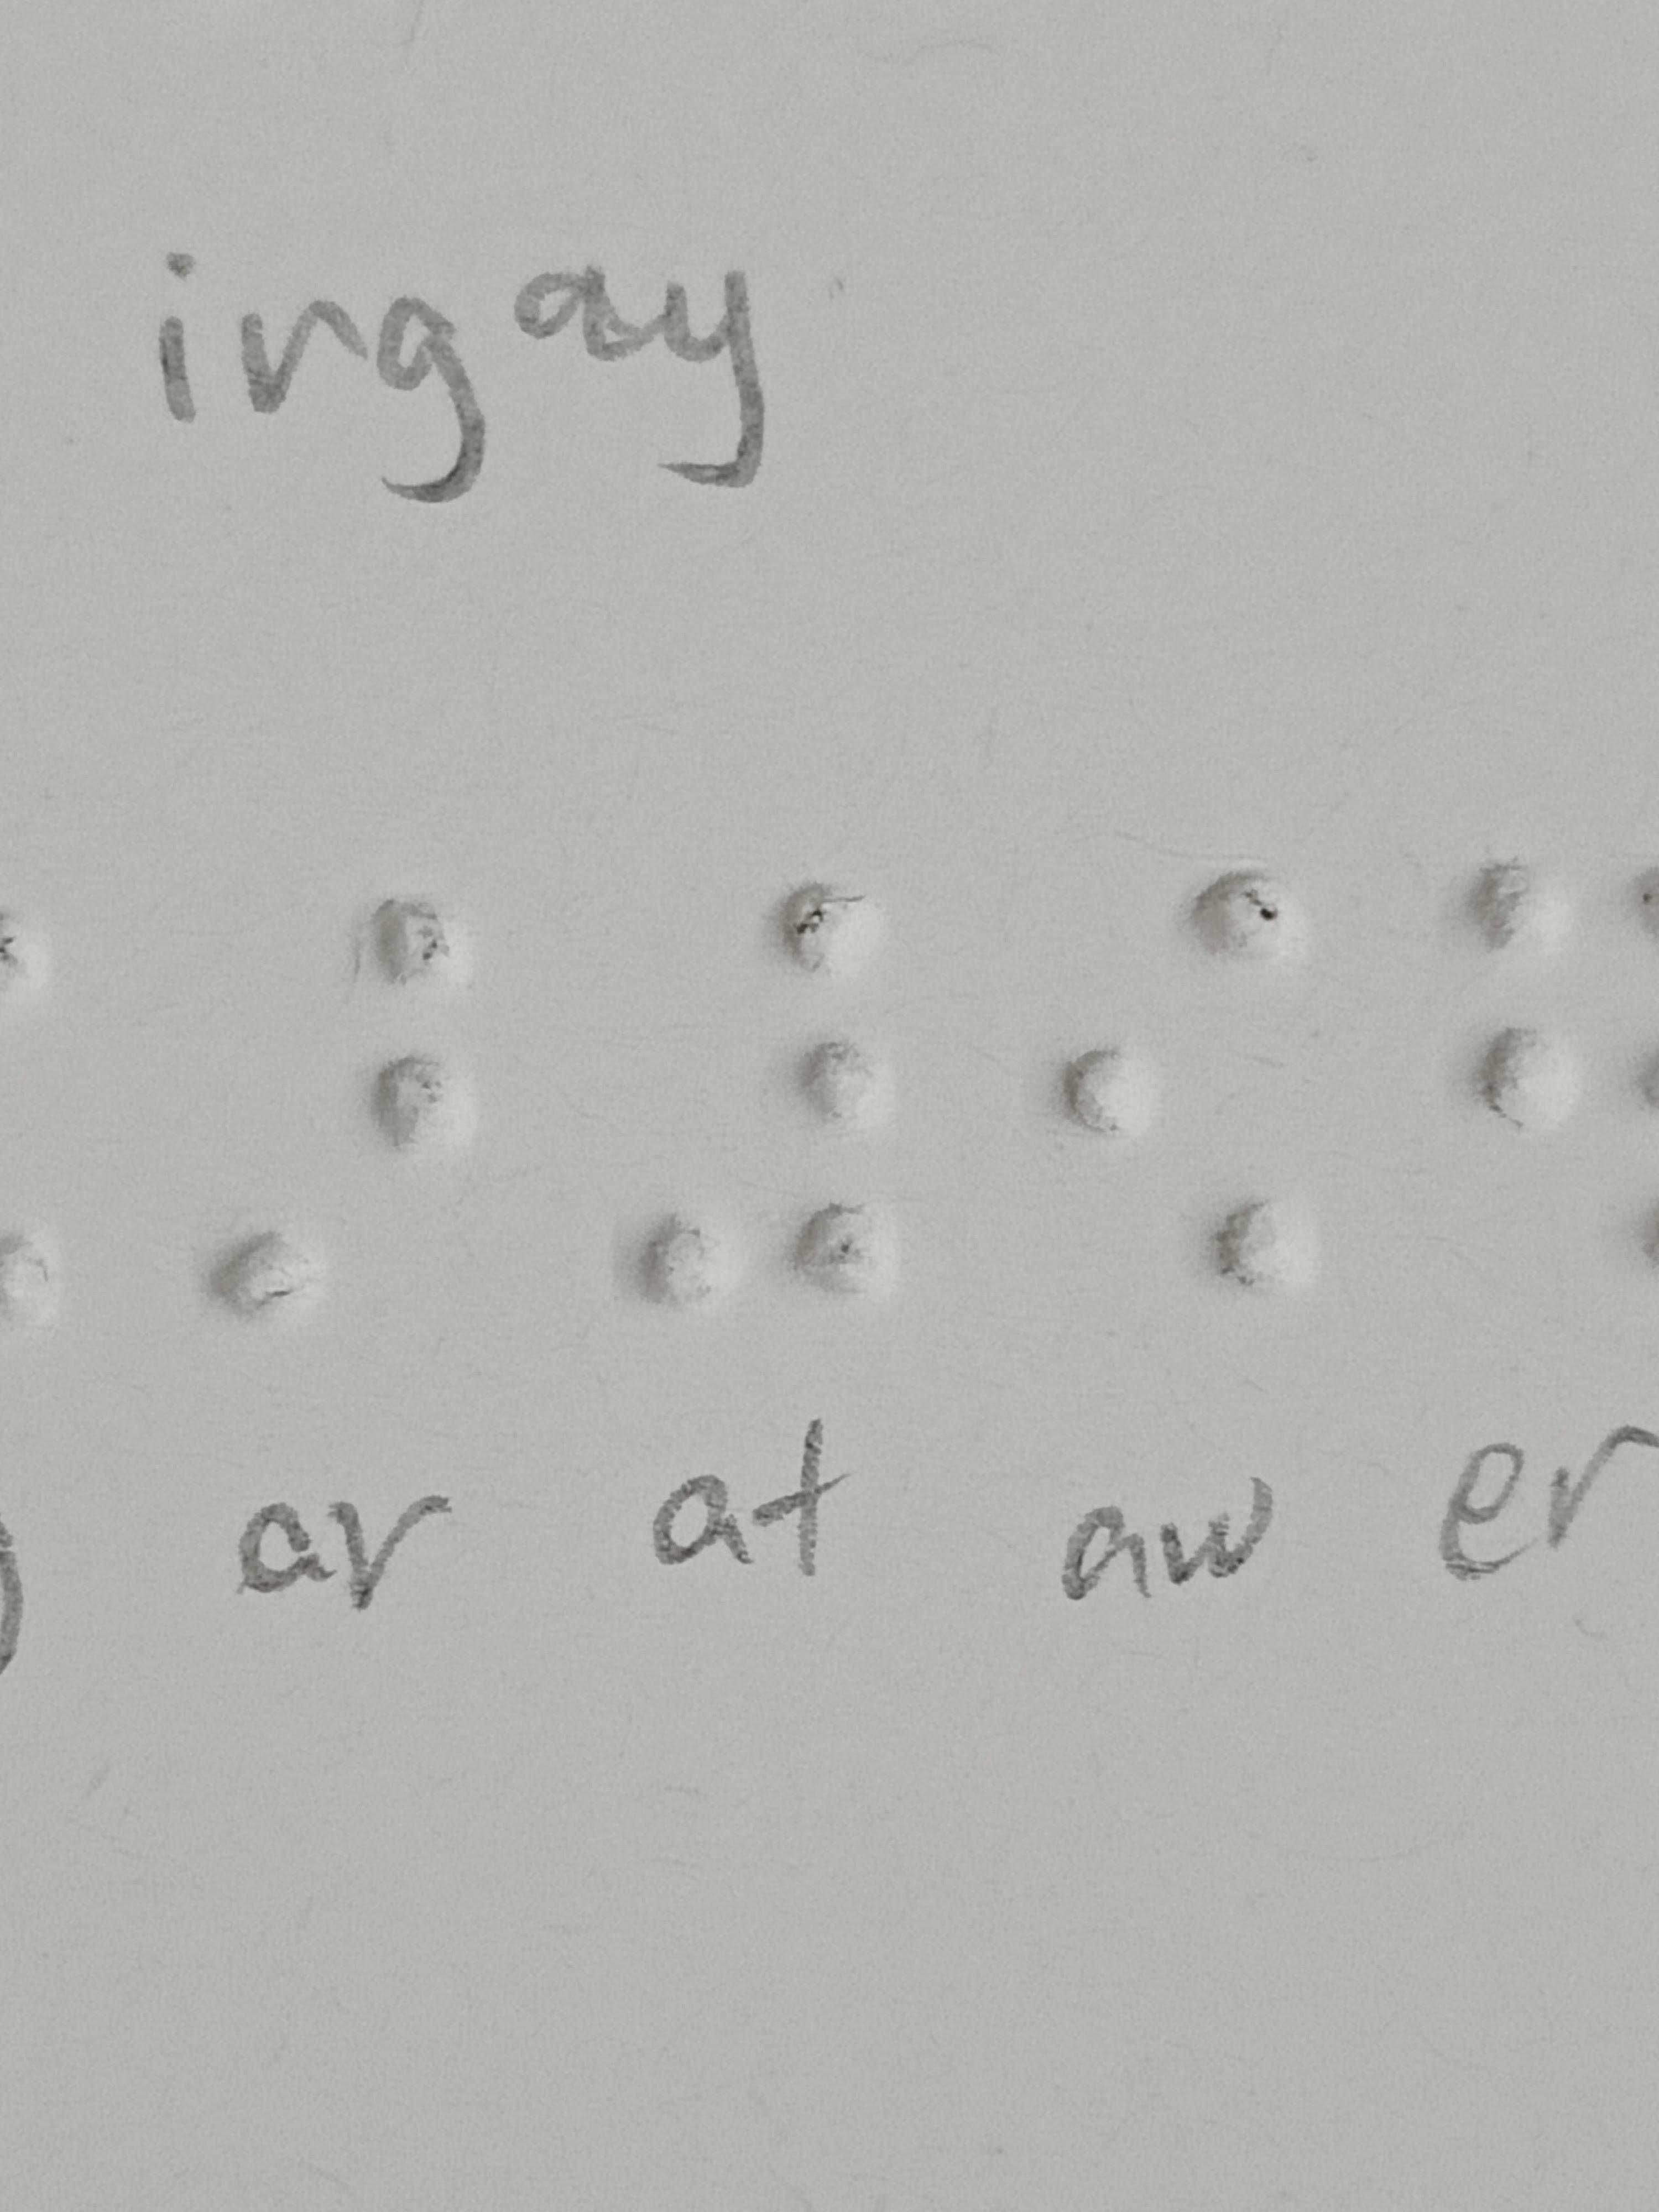one_cell_part_word_ar: (206, 880, 474, 1339)
one_cell_part_word_at: (620, 869, 908, 1331)
one_cell_part_word_aw: (1053, 864, 1314, 1305)
